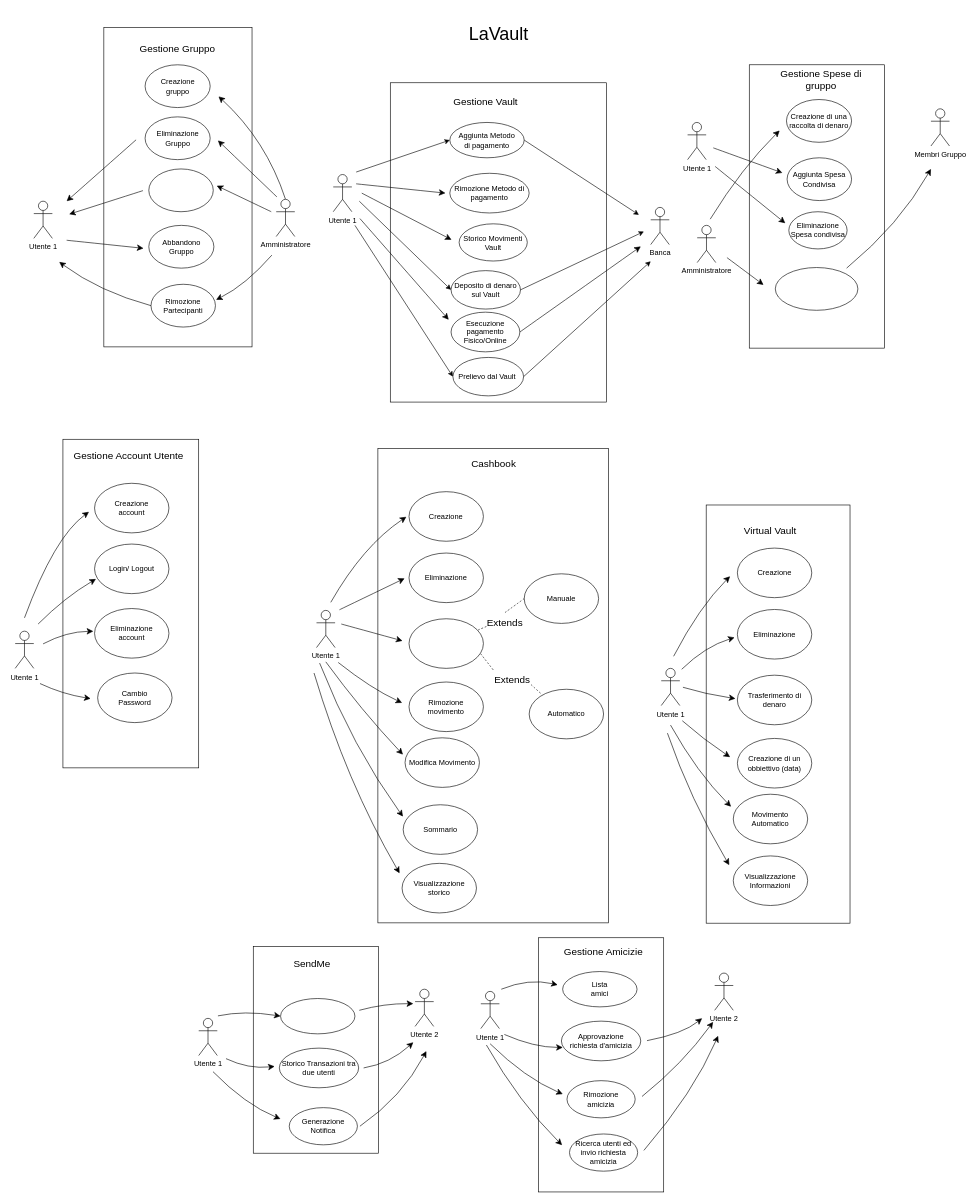
Image size: 977x1203. Some labels were removed from this diagram. Each missing label, with the centre of its shape:
"Aggiunta movimento" goes at point 445,643.
"Finalizzazione spese di gruppo" goes at point 816,288.
"Invio e ricezione di denaro" goes at point 317,1016.
"Invito a partecipare ad un Gruppo" goes at point 180,190.
